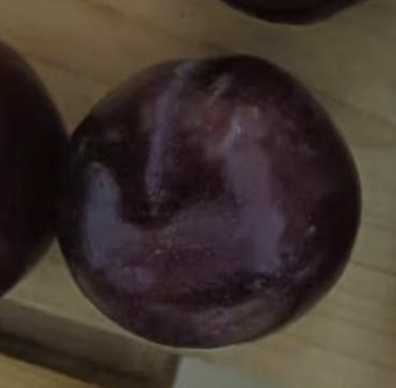plum_B: (56, 54, 362, 349)
